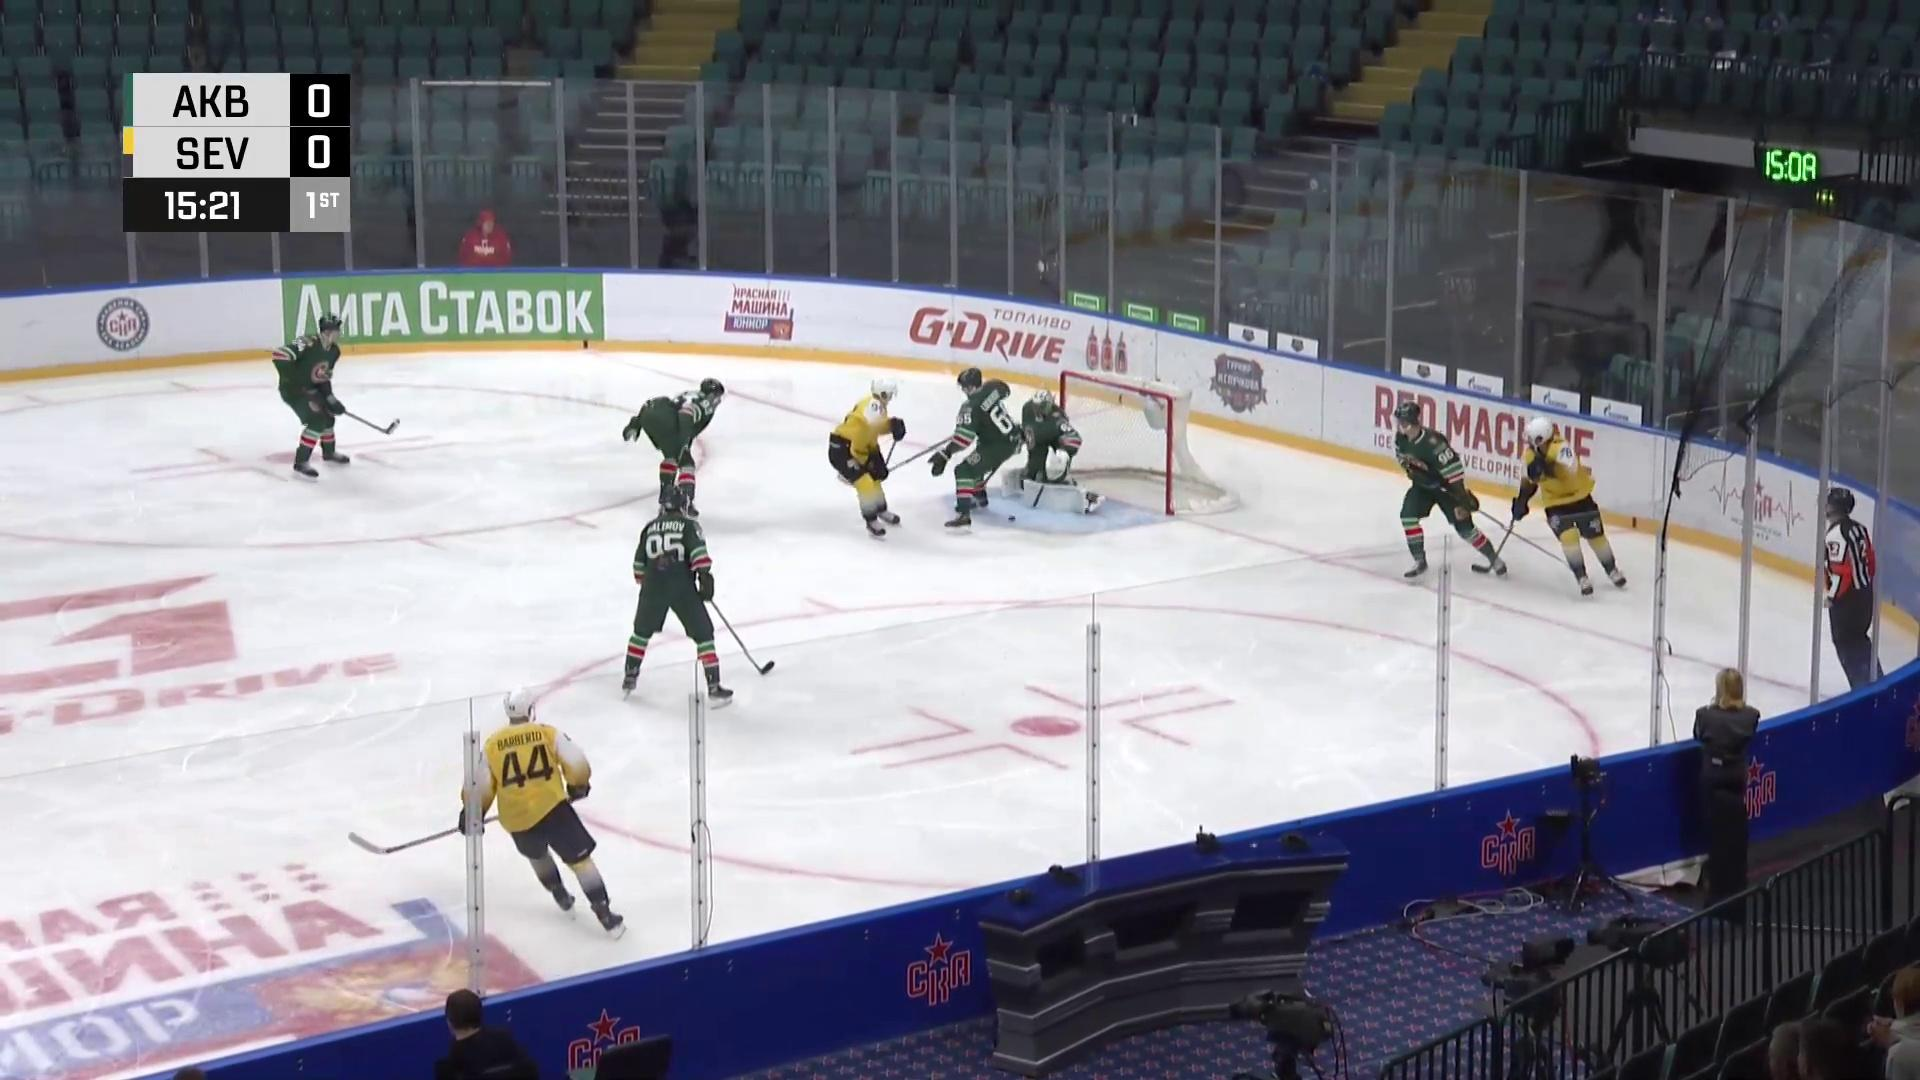ball: (1007, 514, 1017, 524)
